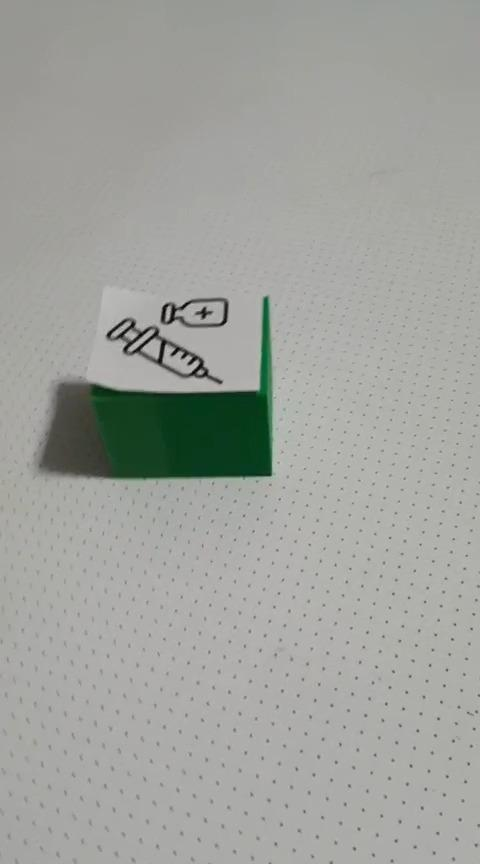antiseptic cream: (84, 283, 274, 478)
